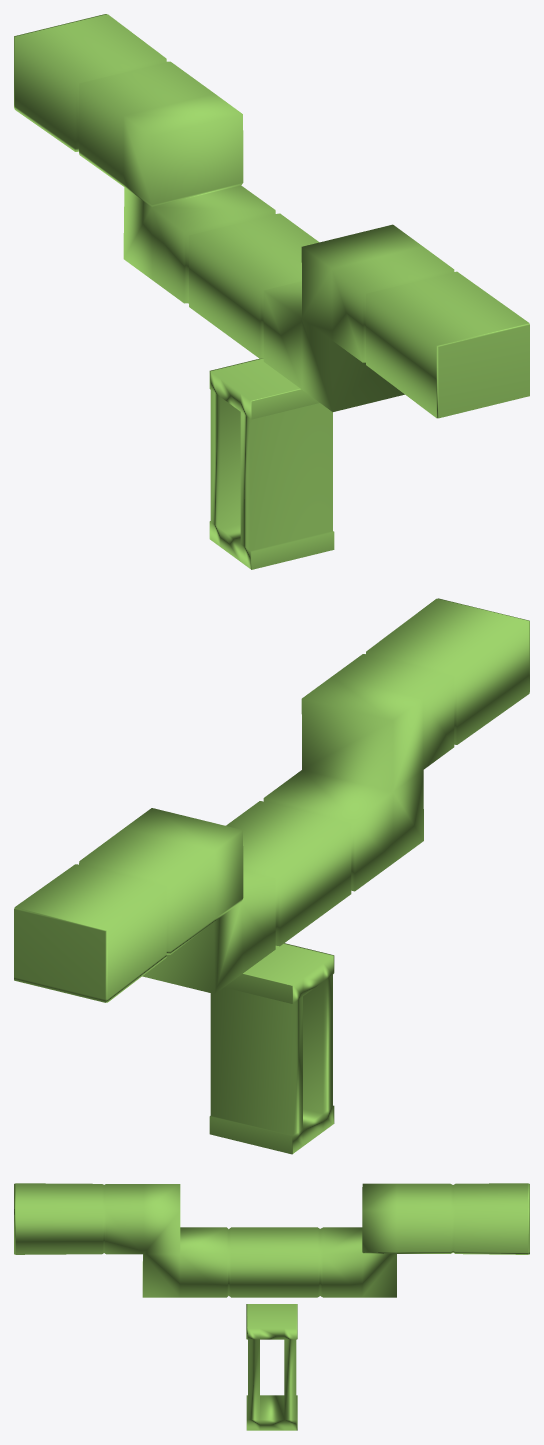
The model's file is Wall_Battlements_01_Hole_Lod0.fbx.
The picture shows the model from 3 angles, top to bottom: view 1: azimuth 30°, elevation 25°; view 2: azimuth 150°, elevation 25°; view 3: azimuth 270°, elevation 25°; orthographic projection. The views are drawn at different scales.
Visible parts, largest first — view 1: Wall_Battlements_01_Hole_Lod0; view 2: Wall_Battlements_01_Hole_Lod0; view 3: Wall_Battlements_01_Hole_Lod0.
Boxes of the visible parts, bbox=[...] form: Wall_Battlements_01_Hole_Lod0: bbox=[14, 14, 529, 569]; Wall_Battlements_01_Hole_Lod0: bbox=[14, 598, 529, 1154]; Wall_Battlements_01_Hole_Lod0: bbox=[14, 1183, 529, 1430].
Size of the model in its own units: 38.29 by 143 by 302.
